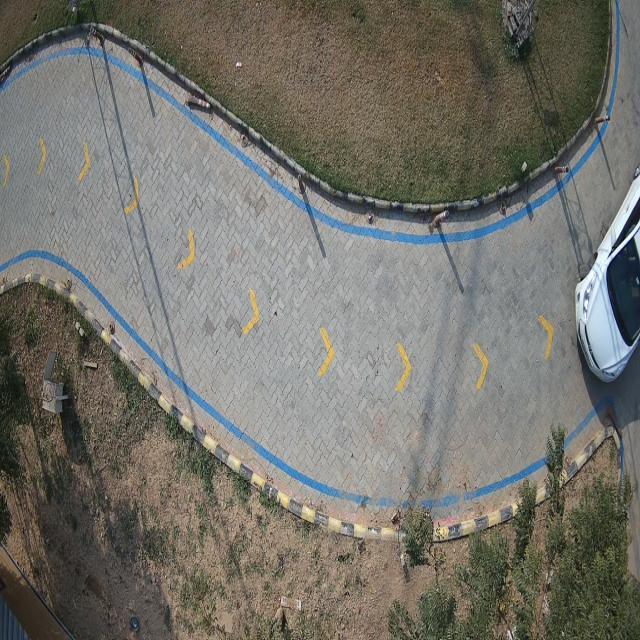car: (571, 170, 640, 383)
